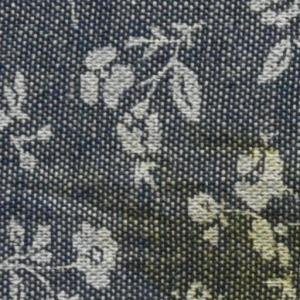Oil Stain: (58, 133, 300, 300)
